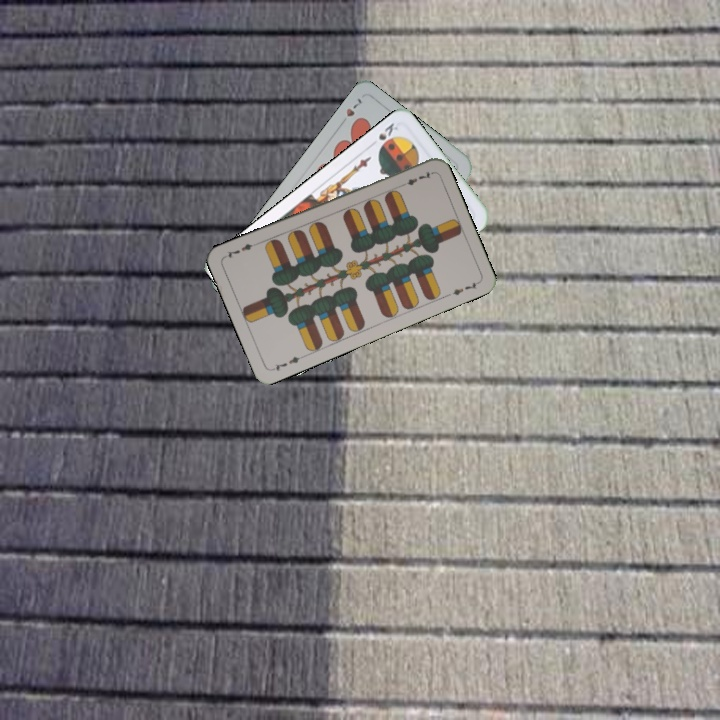E7: (396, 168, 435, 190), (268, 351, 307, 373)
H7: (336, 94, 364, 128)
SK: (374, 119, 402, 143)
